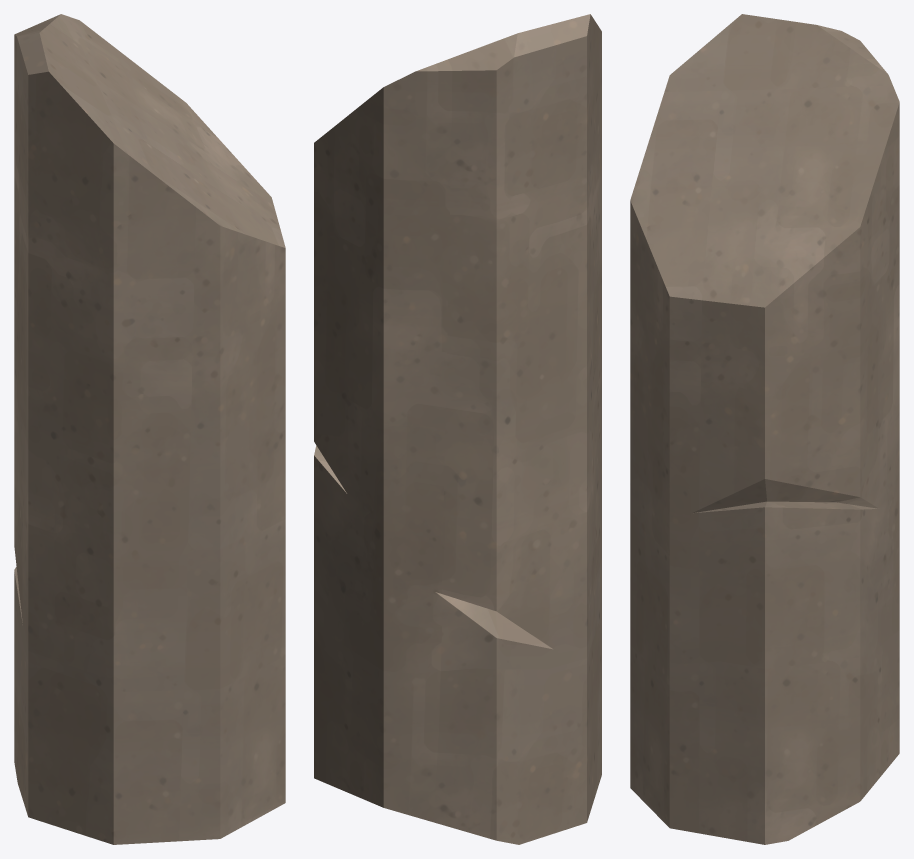
Rendered from Pillar_3.fbx.
3 views of the same model, side by side, from view 1: azimuth 30°, elevation 25°; view 2: azimuth 150°, elevation 25°; view 3: azimuth 270°, elevation 25° (orthographic). The views are drawn at different scales.
Visible parts, largest first — view 1: _Pillar_3; view 2: _Pillar_3; view 3: _Pillar_3.
Part boxes in pixels (<box>): _Pillar_3: <box>14,14,285,844</box>; _Pillar_3: <box>314,14,601,844</box>; _Pillar_3: <box>630,14,899,844</box>.
Bounding box in the file's own units: 83.4 × 247 × 83.4.
